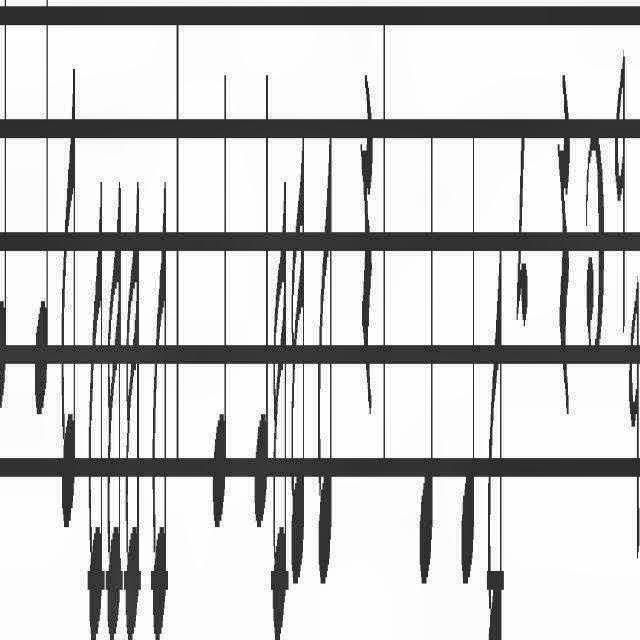Bemol: (613, 47, 627, 361), (628, 276, 640, 572)
Eighth-note: (62, 51, 78, 557), (151, 200, 169, 640), (316, 122, 332, 598), (88, 169, 104, 639), (487, 245, 505, 640)
Eighth-rest: (516, 110, 528, 342)
Quarter-note: (212, 48, 228, 546), (254, 67, 270, 546), (418, 126, 434, 602), (460, 122, 476, 590), (34, 0, 50, 428), (0, 0, 8, 432)
Quarter-rest: (357, 64, 373, 436), (557, 59, 571, 420)
Sixteenth-note: (106, 169, 124, 639), (124, 163, 141, 640), (272, 169, 288, 639), (290, 134, 306, 594)
